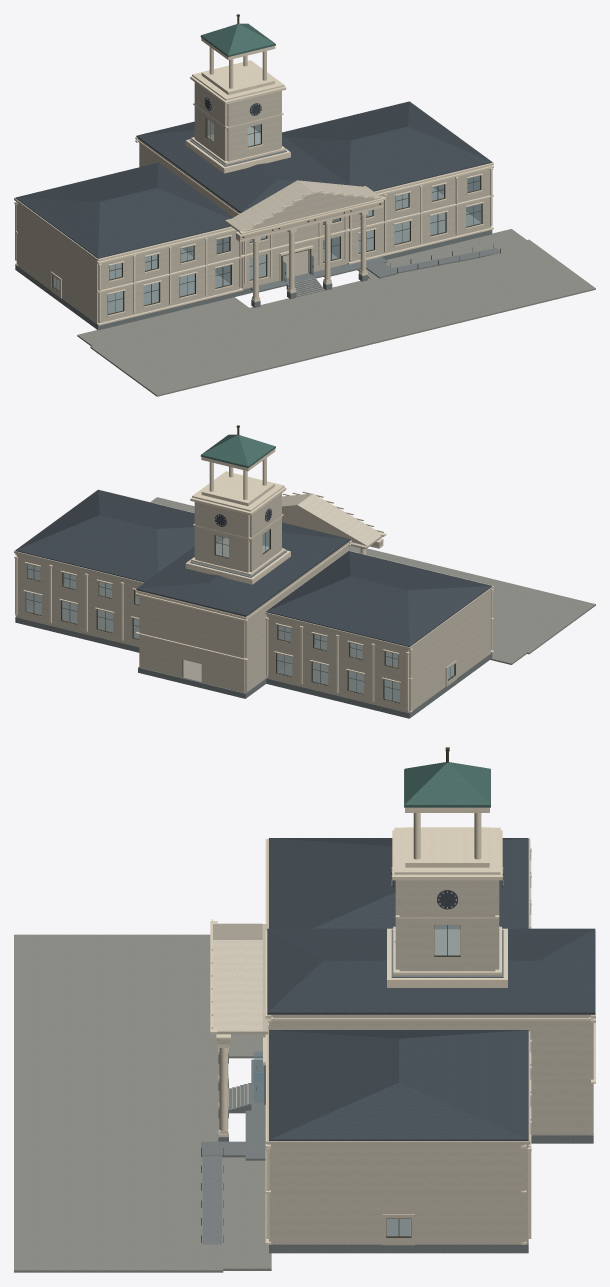
The picture shows the model from 3 angles, top to bottom: view 1: azimuth 30°, elevation 25°; view 2: azimuth 150°, elevation 25°; view 3: azimuth 270°, elevation 25°; orthographic projection. The views are drawn at different scales.
Parts seen in each view (by area): view 1: Ground_And_Stairs_VIS_Forecourt_Paving_Pavement, Wing_Left_VIS_Wing_Hipped_Slate_Roof_Roof_Slate, Wing_Right_VIS_Wing_Hipped_Slate_Roof_Roof_Slate, Center_VIS_Central_Hipped_Slate_Roof_Roof_Slate, Wing_Left_VIS_Wing_Facade_Limestone, Wing_Left_VIS_Wing_Side_Wall_Limestone, Wing_Right_VIS_Wing_Facade_Limestone, Center_VIS_Portico_Pediment_Tympanum_Limestone, Ground_And_Stairs_VIS_Forecourt_Left_Pavement, Tower_VIS_Clock_Tower_Wall_Limestone, Center_VIS_Front_Facade_Limestone, Ground_And_Stairs_VIS_Forecourt_Right_Pavement (+20 smaller); view 2: Wing_Left_VIS_Wing_Hipped_Slate_Roof_Roof_Slate, Wing_Right_VIS_Wing_Hipped_Slate_Roof_Roof_Slate, Center_VIS_North_Back_Wall_Limestone, Center_VIS_Central_Hipped_Slate_Roof_Roof_Slate, Wing_Left_VIS_Wing_Facade_Limestone, Ground_And_Stairs_VIS_Forecourt_Paving_Pavement, Wing_Right_VIS_Wing_Facade_Limestone, Wing_Left_VIS_Wing_Side_Wall_Limestone, Tower_VIS_Clock_Tower_Wall_Limestone, Center_VIS_Portico_Pediment_Tympanum_Limestone, Center_VIS_Side_Walls_Limestone, Wing_Left_VIS_Window_Glass_Glass (+20 smaller); view 3: Ground_And_Stairs_VIS_Forecourt_Paving_Pavement, Wing_Right_VIS_Wing_Hipped_Slate_Roof_Roof_Slate, Wing_Right_VIS_Wing_Side_Wall_Limestone, Center_VIS_Central_Hipped_Slate_Roof_Roof_Slate, Wing_Left_VIS_Wing_Hipped_Slate_Roof_Roof_Slate, Center_VIS_Side_Walls_Limestone, Tower_VIS_Clock_Tower_Side_Limestone, Ground_And_Stairs_VIS_Forecourt_Right_Pavement, Center_VIS_Portico_Pediment_Tympanum_Limestone, Tower_VIS_Tower_Belt_Cornice_Limestone_Trim, Tower_VIS_Belfry_Copper_Hip_Roof_Patinated_Copper, Tower_VIS_Belfry_Base_Limestone_Trim (+17 smaller).
Part boxes in pixels (left/top/right/bottom): Ground_And_Stairs_VIS_Forecourt_Paving_Pavement: left=90, top=239, right=595, bottom=396; Wing_Left_VIS_Wing_Hipped_Slate_Roof_Roof_Slate: left=15, top=162, right=233, bottom=258; Wing_Right_VIS_Wing_Hipped_Slate_Roof_Roof_Slate: left=282, top=101, right=492, bottom=191; Center_VIS_Central_Hipped_Slate_Roof_Roof_Slate: left=136, top=121, right=349, bottom=212; Wing_Left_VIS_Wing_Facade_Limestone: left=98, top=228, right=239, bottom=323; Wing_Left_VIS_Wing_Side_Wall_Limestone: left=16, top=202, right=229, bottom=323; Wing_Right_VIS_Wing_Facade_Limestone: left=349, top=166, right=490, bottom=261; Center_VIS_Portico_Pediment_Tympanum_Limestone: left=227, top=180, right=380, bottom=231; Ground_And_Stairs_VIS_Forecourt_Left_Pavement: left=77, top=297, right=254, bottom=346; Tower_VIS_Clock_Tower_Wall_Limestone: left=208, top=91, right=281, bottom=161; Center_VIS_Front_Facade_Limestone: left=241, top=216, right=347, bottom=289; Ground_And_Stairs_VIS_Forecourt_Right_Pavement: left=357, top=229, right=532, bottom=278; Wing_Left_VIS_Wing_Hipped_Slate_Roof_Roof_Slate: left=266, top=551, right=492, bottom=646; Wing_Right_VIS_Wing_Hipped_Slate_Roof_Roof_Slate: left=15, top=489, right=194, bottom=582; Center_VIS_North_Back_Wall_Limestone: left=139, top=593, right=245, bottom=692; Center_VIS_Central_Hipped_Slate_Roof_Roof_Slate: left=136, top=522, right=350, bottom=616; Wing_Left_VIS_Wing_Facade_Limestone: left=267, top=615, right=409, bottom=712; Ground_And_Stairs_VIS_Forecourt_Paving_Pavement: left=150, top=497, right=595, bottom=654; Wing_Right_VIS_Wing_Facade_Limestone: left=16, top=554, right=141, bottom=646; Wing_Left_VIS_Wing_Side_Wall_Limestone: left=277, top=590, right=490, bottom=710; Tower_VIS_Clock_Tower_Wall_Limestone: left=195, top=502, right=268, bottom=572; Center_VIS_Portico_Pediment_Tympanum_Limestone: left=282, top=493, right=381, bottom=545; Center_VIS_Side_Walls_Limestone: left=245, top=544, right=347, bottom=692; Wing_Left_VIS_Window_Glass_Glass: left=277, top=625, right=399, bottom=702; Ground_And_Stairs_VIS_Forecourt_Paving_Pavement: left=14, top=934, right=223, bottom=1272; Wing_Right_VIS_Wing_Hipped_Slate_Roof_Roof_Slate: left=269, top=1030, right=528, bottom=1140; Wing_Right_VIS_Wing_Side_Wall_Limestone: left=273, top=1144, right=524, bottom=1244; Center_VIS_Central_Hipped_Slate_Roof_Roof_Slate: left=267, top=928, right=595, bottom=1014; Wing_Left_VIS_Wing_Hipped_Slate_Roof_Roof_Slate: left=269, top=838, right=528, bottom=928; Center_VIS_Side_Walls_Limestone: left=273, top=1016, right=589, bottom=1134; Tower_VIS_Clock_Tower_Side_Limestone: left=399, top=880, right=495, bottom=971; Ground_And_Stairs_VIS_Forecourt_Right_Pavement: left=205, top=1157, right=271, bottom=1270; Center_VIS_Portico_Pediment_Tympanum_Limestone: left=213, top=923, right=262, bottom=1031; Tower_VIS_Tower_Belt_Cornice_Limestone_Trim: left=392, top=827, right=502, bottom=975; Tower_VIS_Belfry_Copper_Hip_Roof_Patinated_Copper: left=404, top=762, right=490, bottom=805; Tower_VIS_Belfry_Base_Limestone_Trim: left=405, top=827, right=489, bottom=867.
Bounding box in the file's own units: 98 × 48.5 × 71.75.
Materials: 11 (11 with a texture image).
